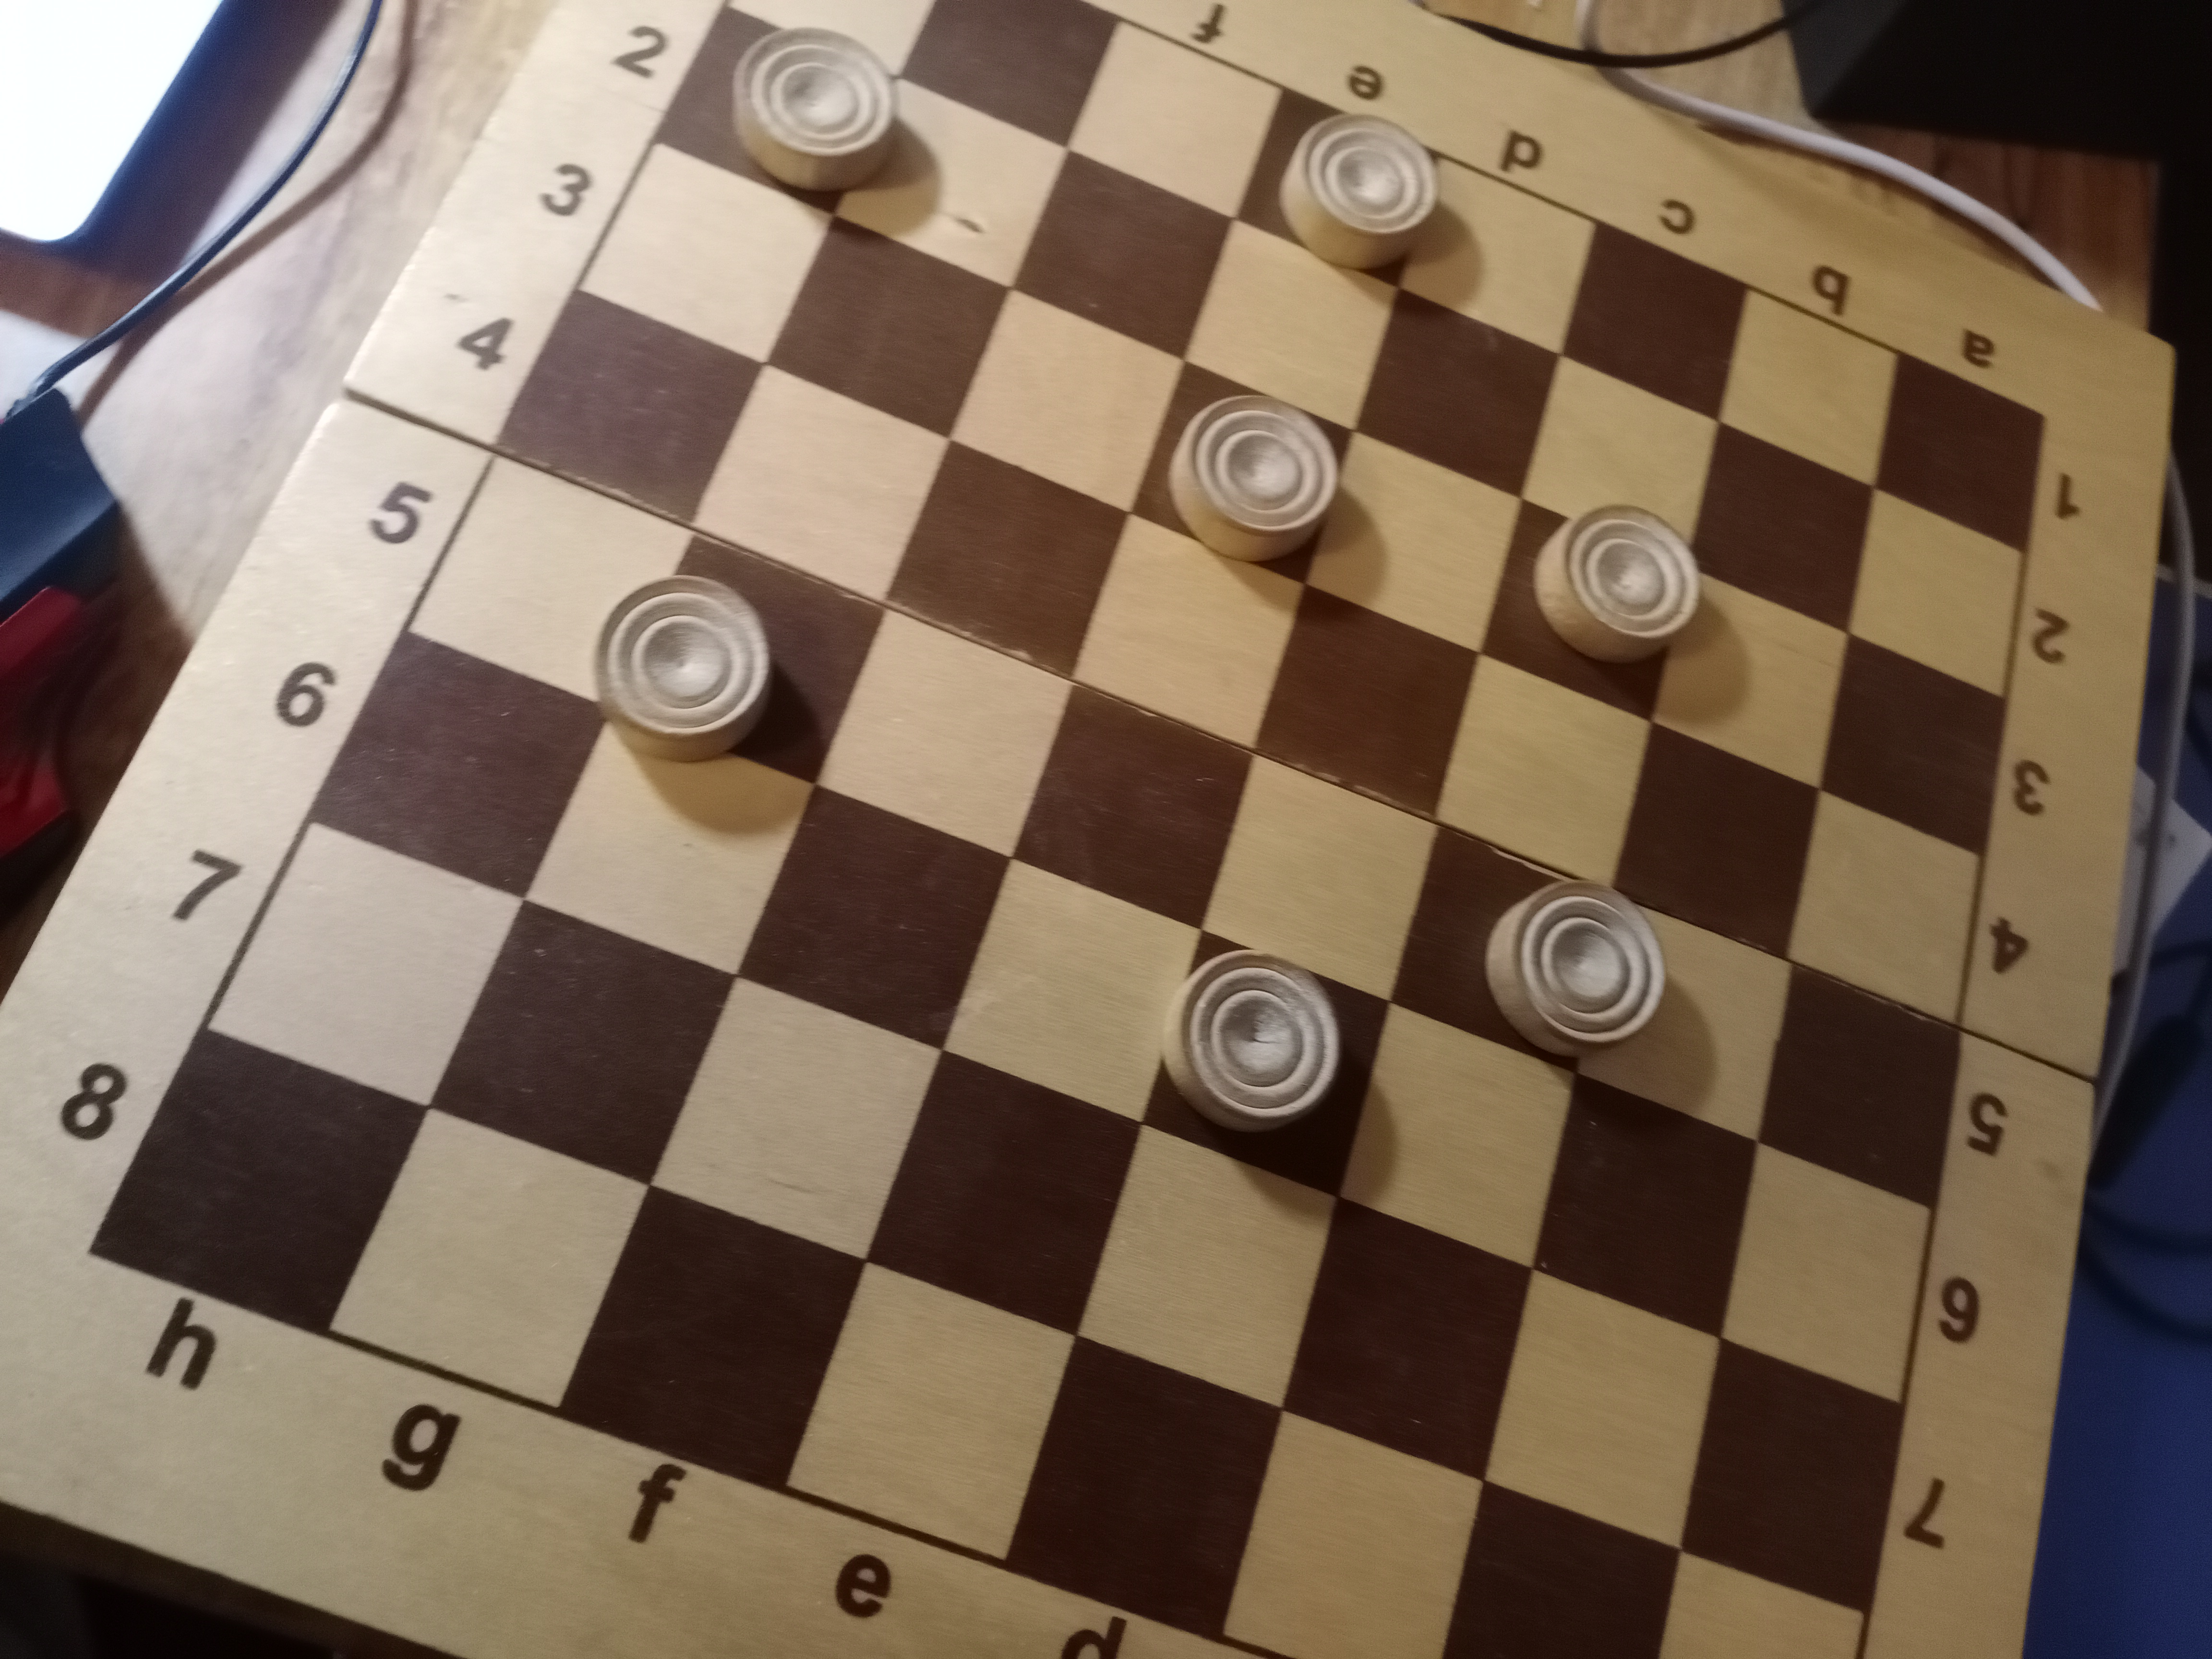White_Draught: (594, 535, 887, 784), (1390, 826, 1667, 1072), (1143, 931, 1390, 1195), (1130, 362, 1355, 586), (1479, 498, 1702, 721), (660, 9, 899, 214), (1237, 91, 1440, 286)
